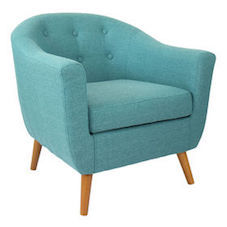chair: (2, 6, 214, 225)
